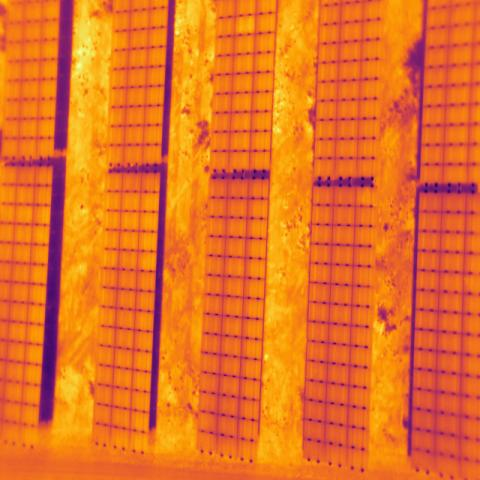fault: (354, 188, 378, 208), (236, 15, 255, 36)
